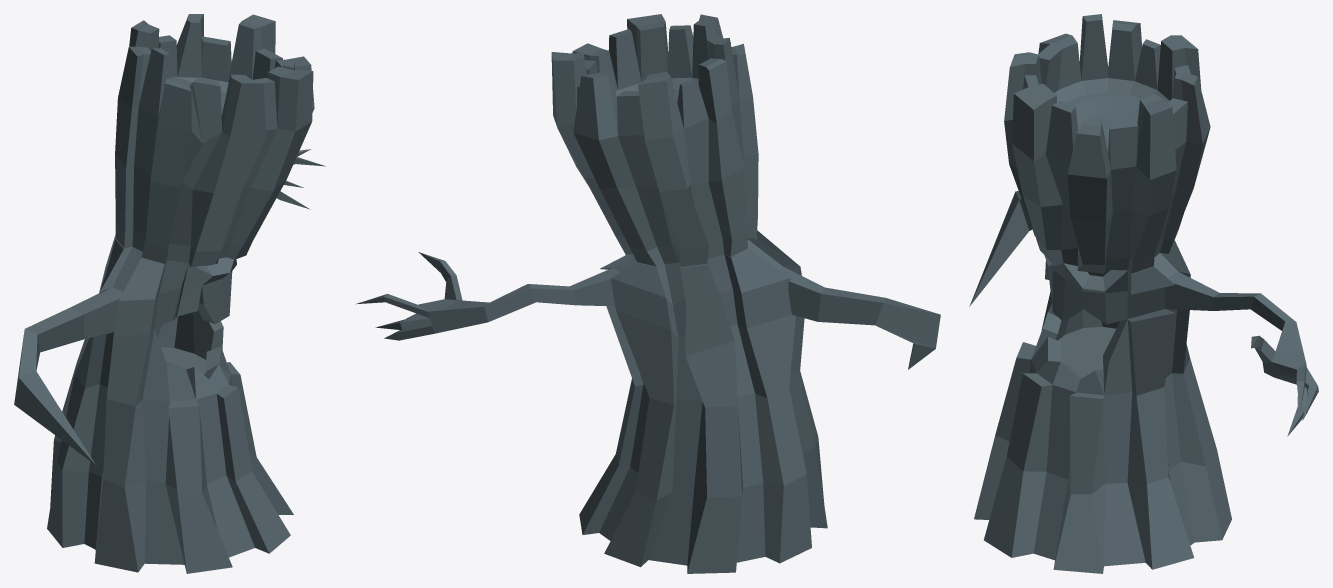
The model's file is spooky_tree.fbx.
The picture shows the model from 3 angles, left to right: view 1: azimuth 30°, elevation 25°; view 2: azimuth 150°, elevation 25°; view 3: azimuth 270°, elevation 25°; orthographic projection. The views are drawn at different scales.
Visible parts, largest first — view 1: Cylinder; view 2: Cylinder; view 3: Cylinder.
Boxes of the visible parts, left/top/right/bottom form: Cylinder: left=14, top=14, right=325, bottom=573; Cylinder: left=355, top=14, right=940, bottom=573; Cylinder: left=969, top=14, right=1318, bottom=573.
Size of the model in its own units: 1640 by 1690 by 1077.
